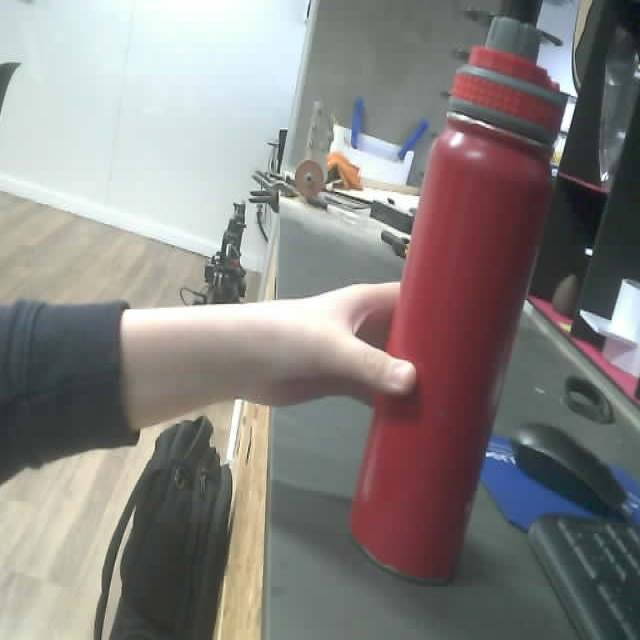water bottle: (351, 14, 568, 582)
